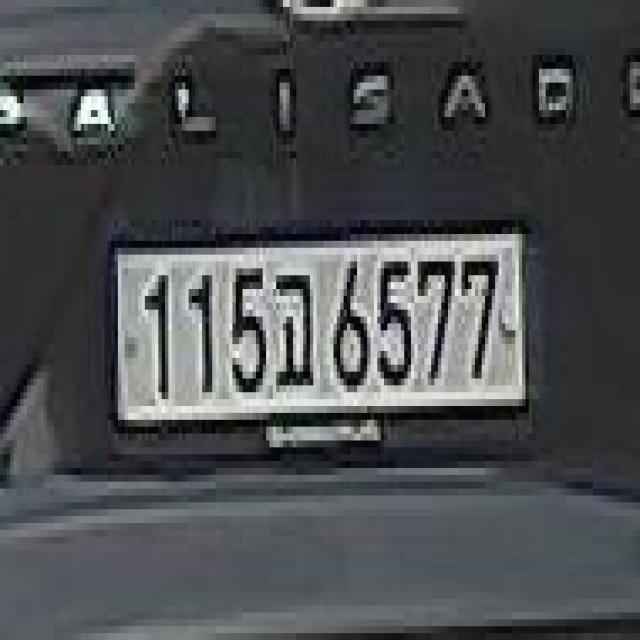illegal_plate: (103, 215, 537, 466)
